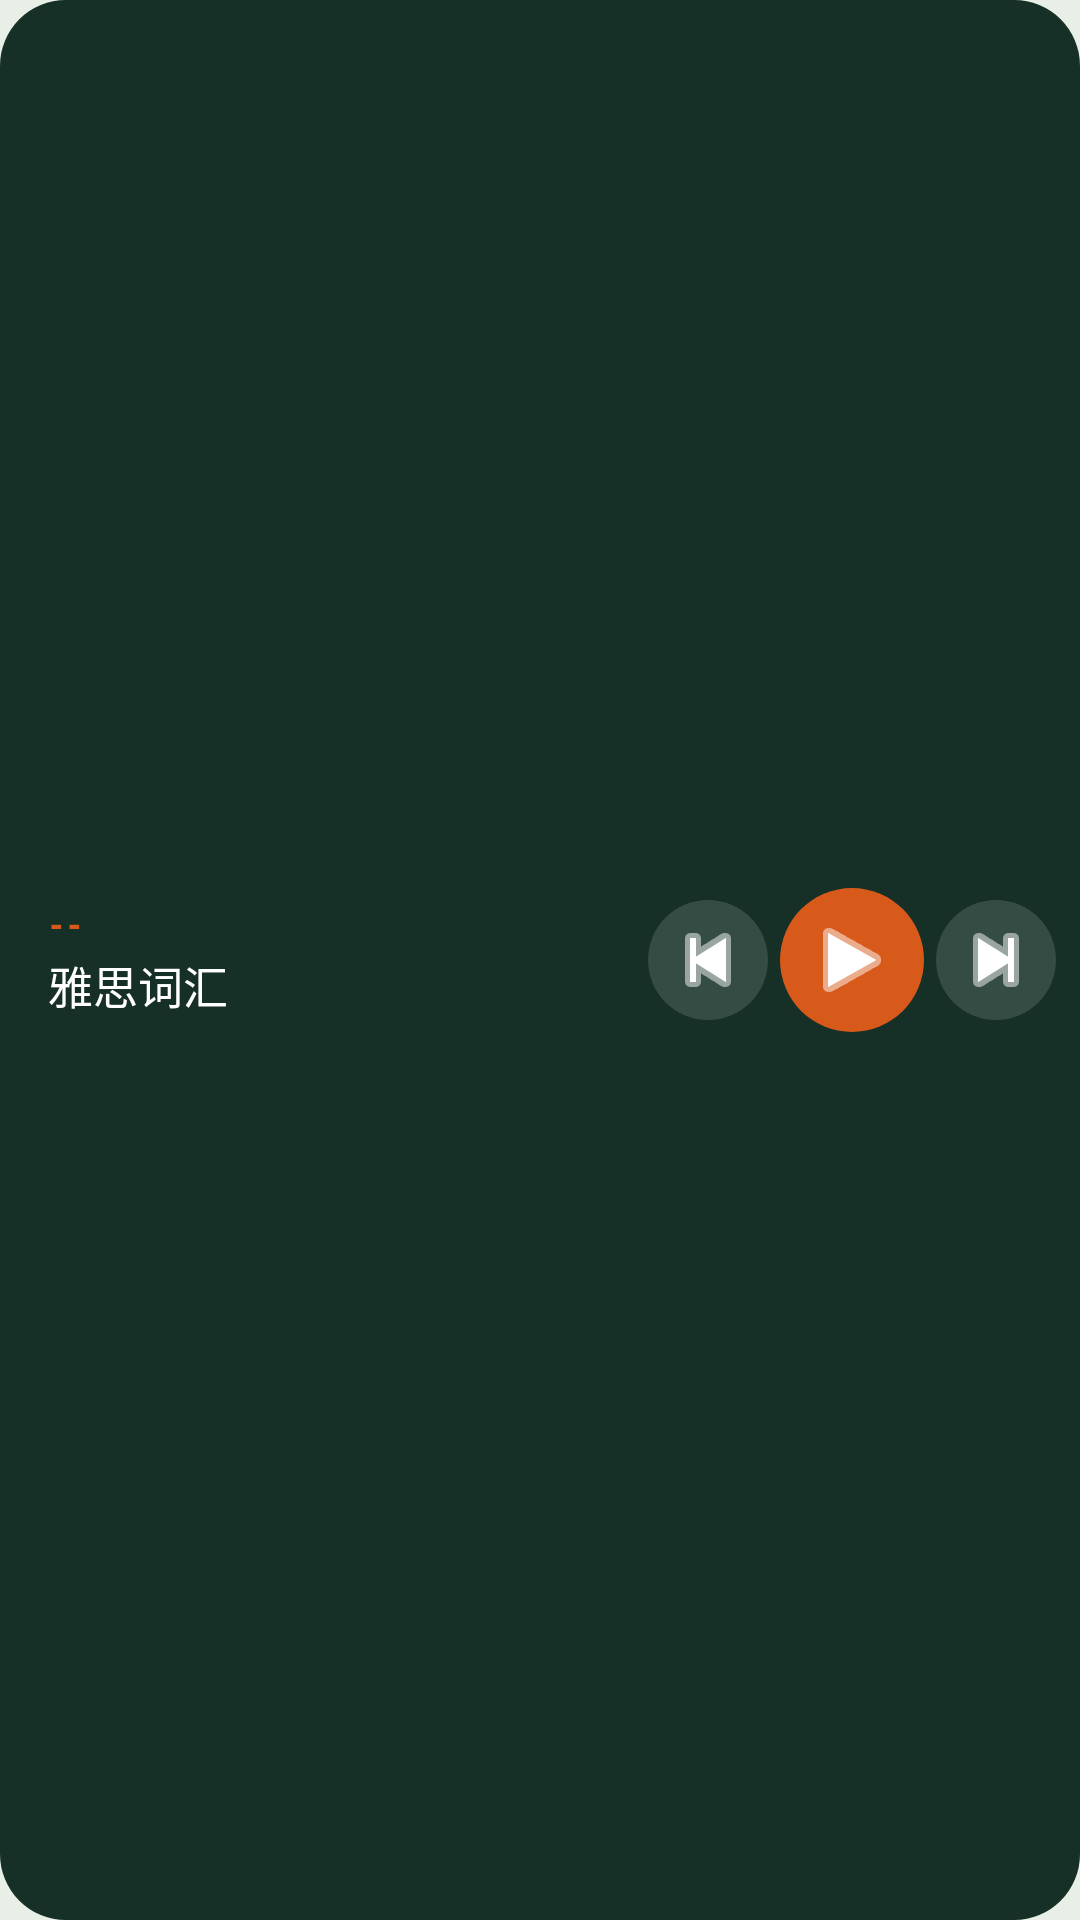

Screen size 1080px x 1920px. Icon name, then its center in pixels as [x,y]:
上一篇: [708,960]
下一篇: [996,960]
播放: [852,960]
